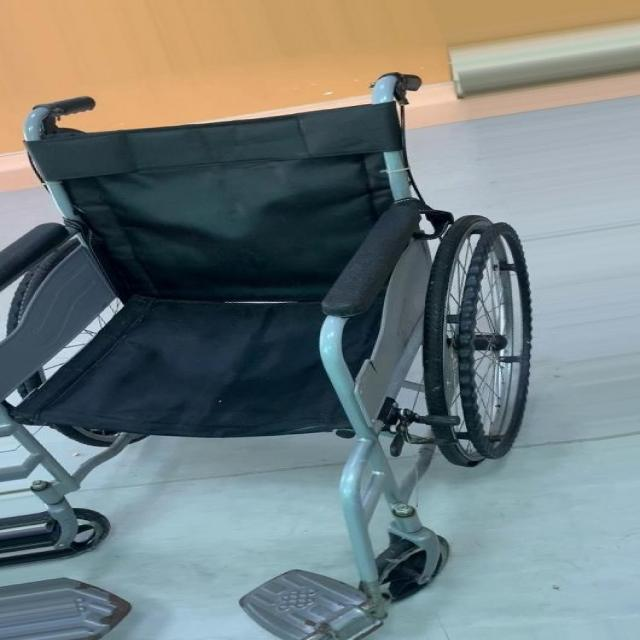wheelchair: (4, 67, 553, 640)
